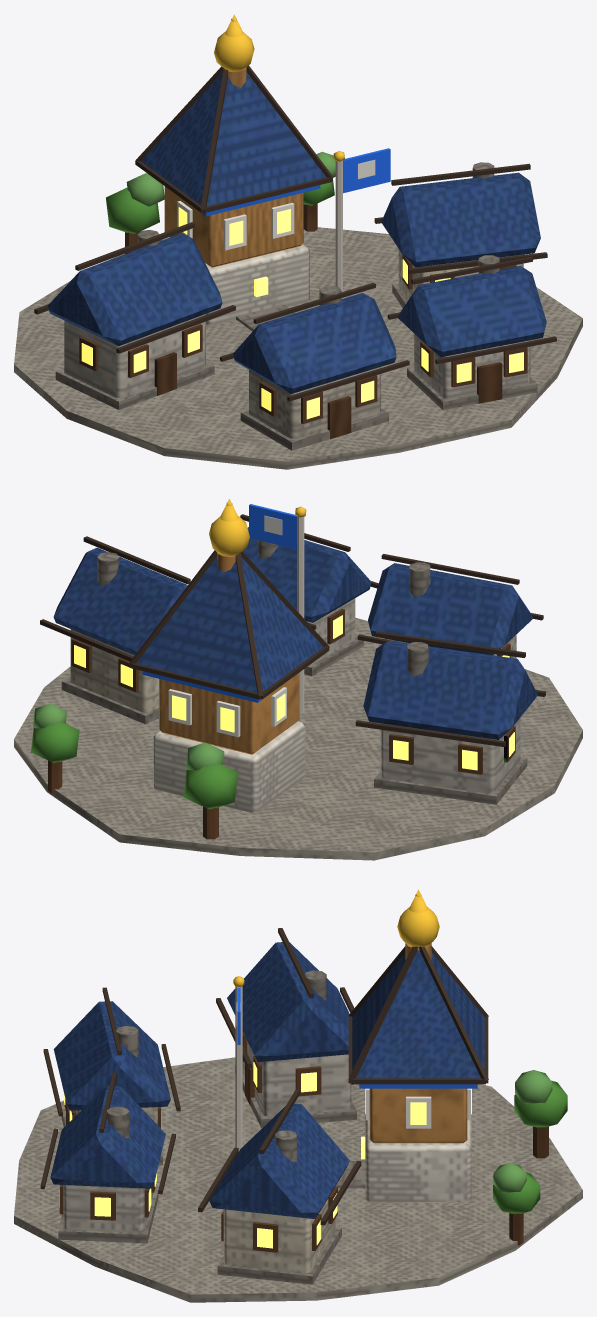
The model's file is city_dl3_blue.glb.
3 renders of one model, top to bottom at view 1: azimuth 30°, elevation 25°; view 2: azimuth 150°, elevation 25°; view 3: azimuth 270°, elevation 25°, orthographic. The views are drawn at different scales.
Parts seen in each view (by area): view 1: city_dl3_blue; view 2: city_dl3_blue; view 3: city_dl3_blue.
Boxes of the visible parts, x1,y1,x2,y2 form: city_dl3_blue: [14, 14, 582, 469]; city_dl3_blue: [14, 499, 582, 860]; city_dl3_blue: [14, 889, 582, 1302].
Size of the model in its own units: 1.39 by 0.7971 by 1.39.
Materials: 2 (1 with a texture image).
